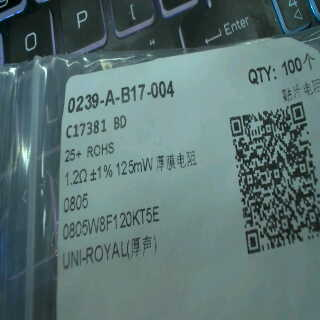1.2R: (62, 166, 90, 213)
